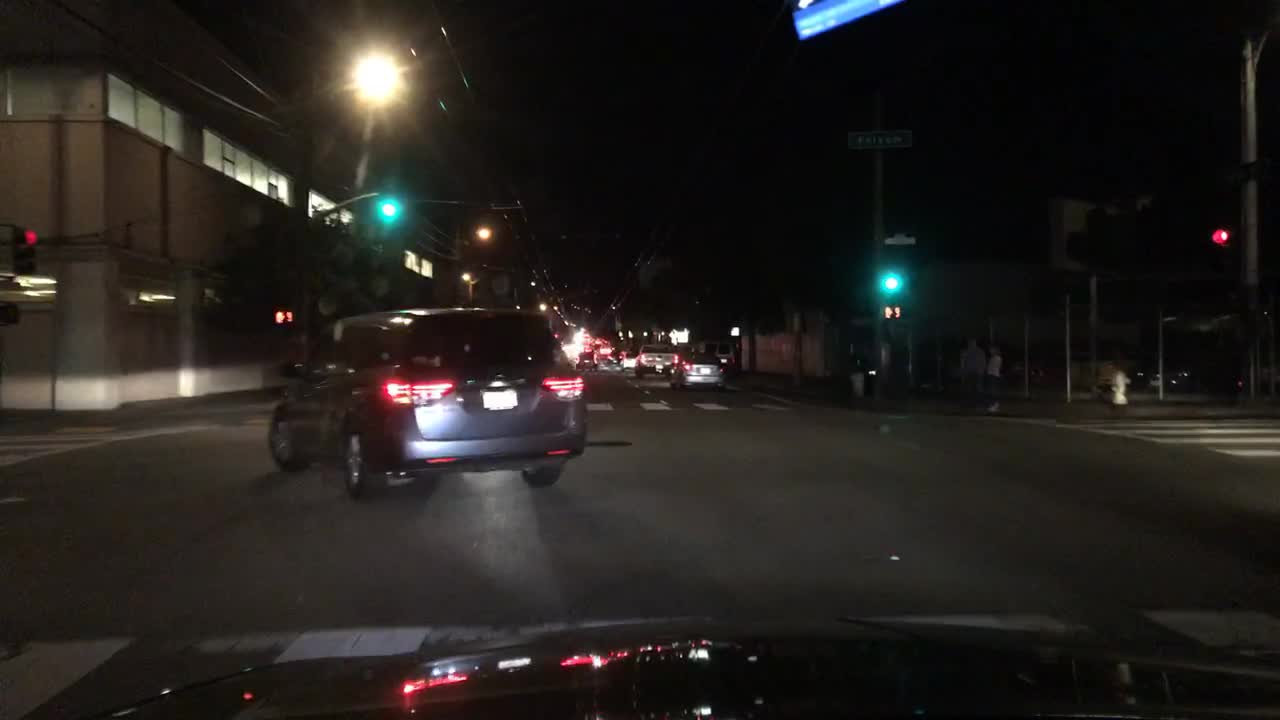car: (267, 304, 586, 499), (1064, 348, 1128, 389), (1130, 357, 1196, 392), (670, 350, 725, 391), (1012, 351, 1063, 386), (635, 338, 678, 378), (701, 341, 739, 365), (616, 349, 638, 373), (574, 350, 598, 370), (593, 338, 610, 359), (607, 344, 624, 365), (560, 339, 577, 359), (581, 339, 595, 350), (575, 332, 591, 340)
person: (960, 332, 983, 406), (985, 343, 1001, 410)
traffic light: (1209, 212, 1240, 264), (10, 225, 39, 271), (371, 194, 407, 229), (878, 265, 909, 291), (272, 306, 298, 324), (883, 302, 903, 321)
traffic sign: (848, 132, 913, 150), (886, 236, 916, 246)
